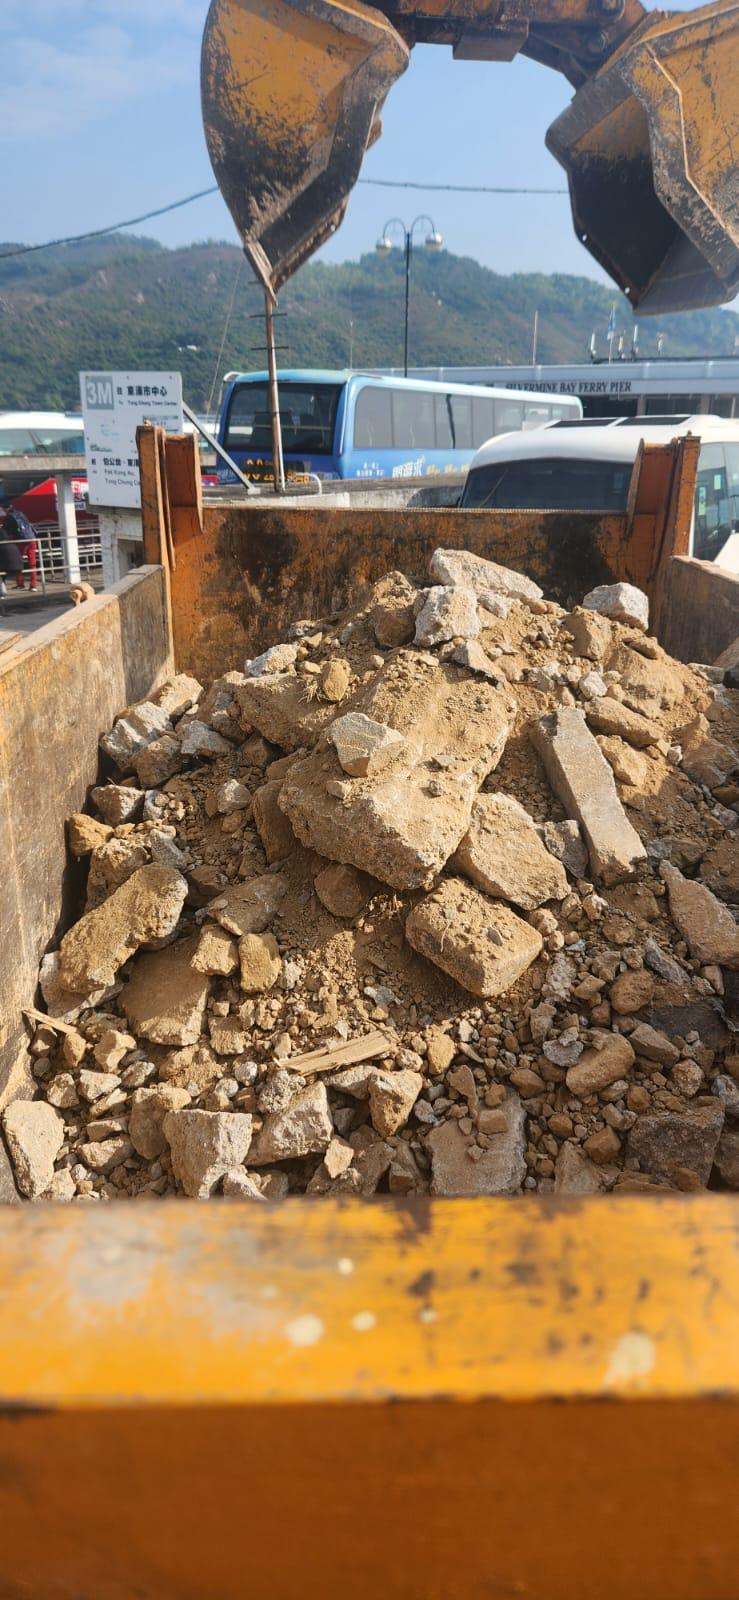dry: (70, 570, 735, 1198)
